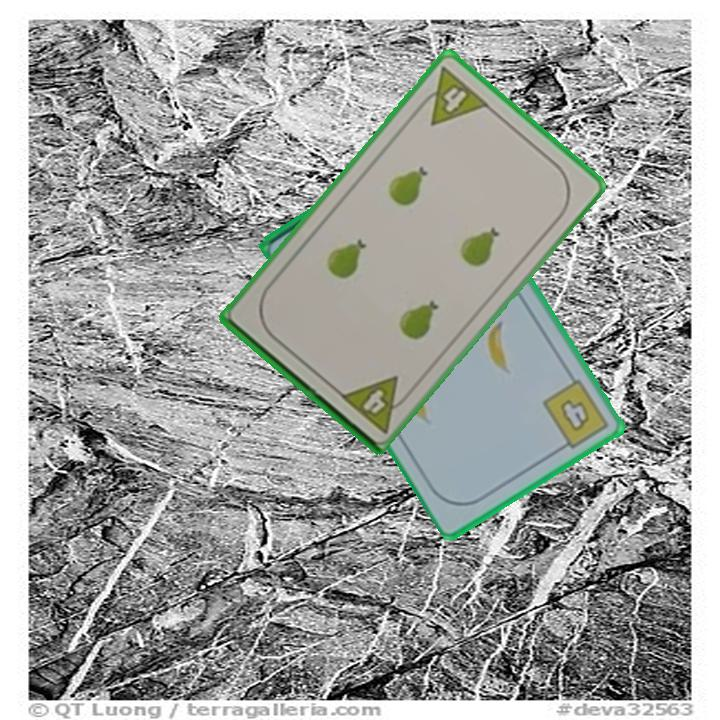4b: (539, 375, 613, 455)
4p: (411, 62, 492, 128), (335, 371, 415, 436)
